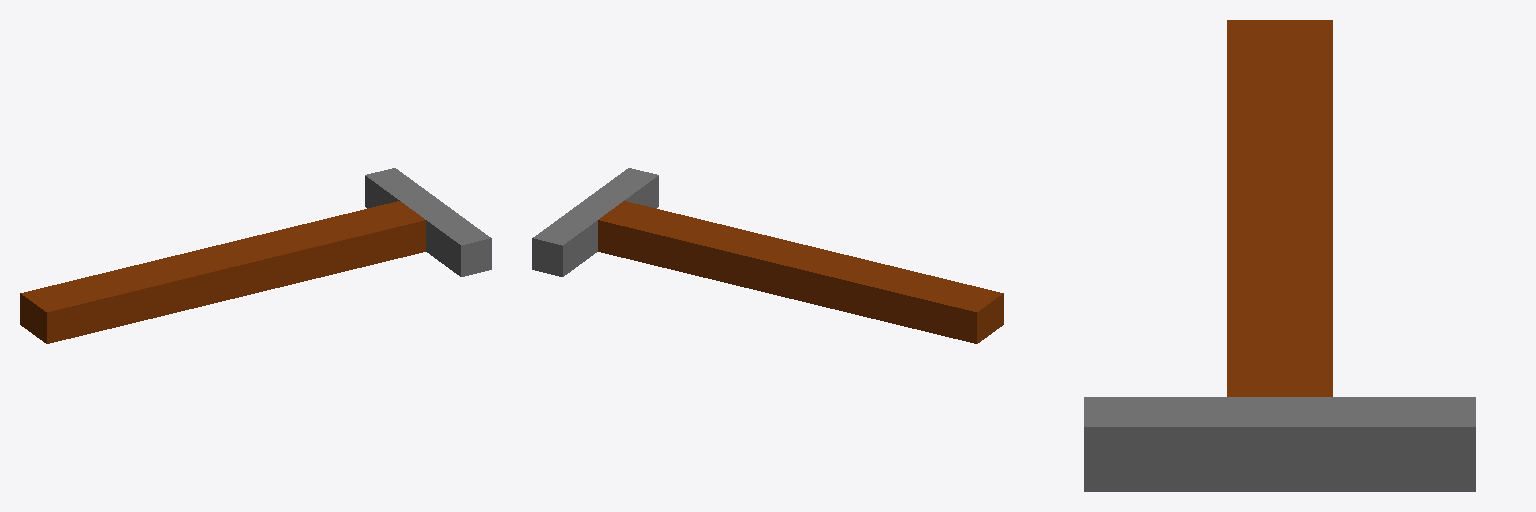
URDF robot description (cuboidal_hammer):
<?xml version="1.0"?>
<robot name="cuboidal_hammer">

  <link name="hammer">
    <!-- Handle -->
    <visual>
      <origin xyz="0 0 0" rpy="0 0 0"/>
      <geometry>
        <box size="0.25 0.03 0.02"/>
      </geometry>
      <material name="brown">
        <color rgba="0.55 0.27 0.07 1.0"/>
      </material>
    </visual>
    <collision>
      <origin xyz="0 0 0" rpy="0 0 0"/>
      <geometry>
        <box size="0.25 0.03 0.02"/>
      </geometry>
    </collision>

    <!-- Head -->
    <visual>
      <origin xyz="0.135 0 0" rpy="0 0 0"/>
      <geometry>
        <box size="0.02 0.11 0.02"/>
      </geometry>
      <material name="gray">
        <color rgba="0.5 0.5 0.5 1.0"/>
      </material>
    </visual>
    <collision>
      <origin xyz="0.135 0 0" rpy="0 0 0"/>
      <geometry>
        <box size="0.02 0.11 0.02"/>
      </geometry>
    </collision>

    <inertial>
      <density value="400"/>
    </inertial>
  </link>

</robot>

--- Render facts (derived) ---
The picture shows the robot from 3 angles, left to right: view 1: azimuth 30°, elevation 25°; view 2: azimuth 150°, elevation 25°; view 3: azimuth 270°, elevation 25°; orthographic projection.
Model cuboidal_hammer with 1 links and 0 joints (none), rooted at hammer, posed every joint at zero.
Links seen in each view (by area): view 1: hammer; view 2: hammer; view 3: hammer.
Link boxes in pixels (x1,y1,x2,y2): hammer: (20,168,491,343); hammer: (532,168,1003,343); hammer: (1084,20,1475,491).
Size in the robot's own frame: 0.27 by 0.11 by 0.02 metres.
Geometry: primitives only (box / cylinder / sphere), no mesh files.
